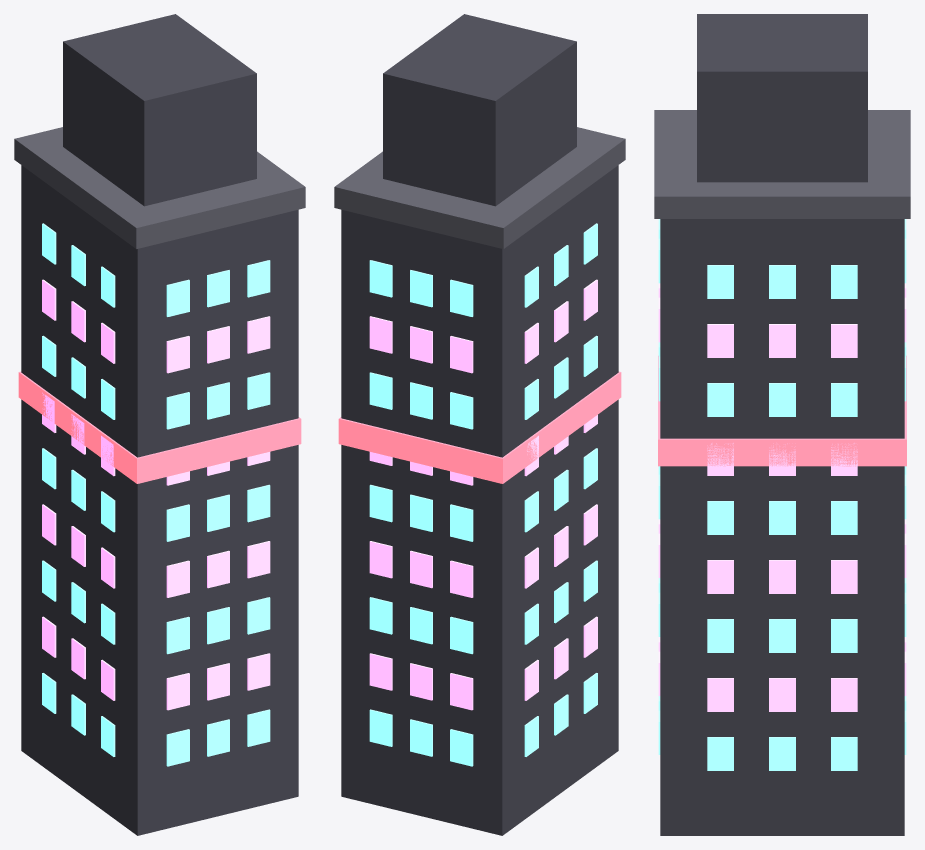
Rendered from building.glb.
The picture shows the model from 3 angles, left to right: view 1: azimuth 30°, elevation 25°; view 2: azimuth 150°, elevation 25°; view 3: azimuth 270°, elevation 25°; orthographic projection. The views are drawn at different scales.
Visible parts, largest first — view 1: building; view 2: building; view 3: building.
Boxes of the visible parts, x1,y1,x2,y2 form: building: [14, 14, 305, 835]; building: [334, 14, 625, 835]; building: [654, 14, 910, 835].
Size of the model in its own units: 4.2 by 17 by 5.25.
